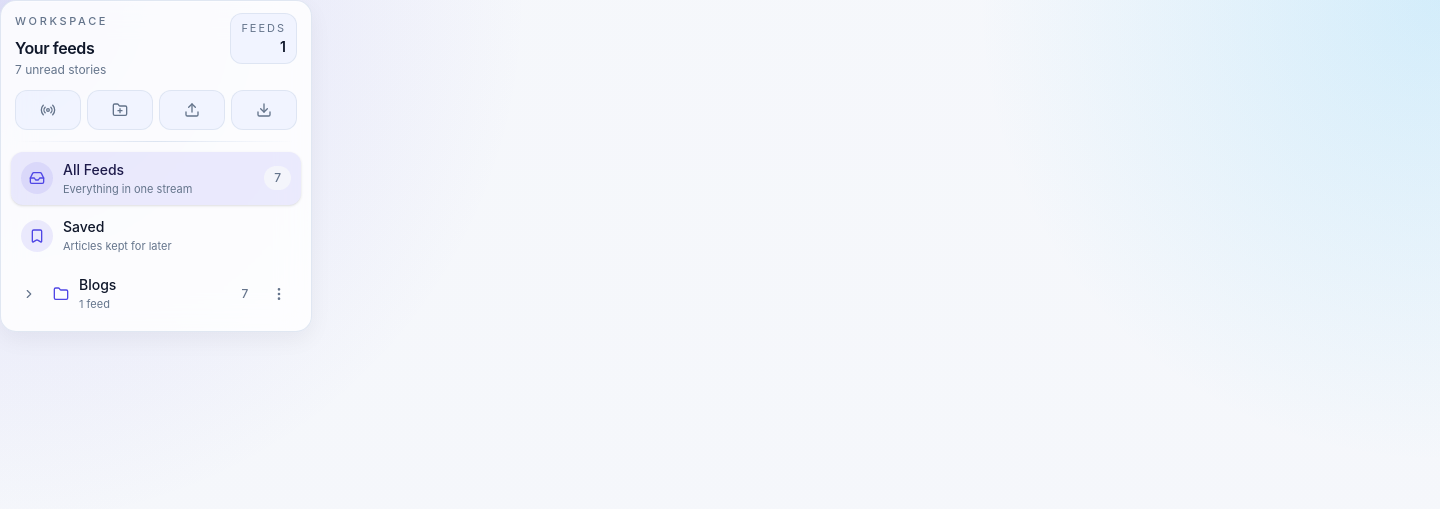
Test: Sidebar selection › toggles the chevron without selecting the category
Click the button named "Expand Blogs". click: point(29, 294)
box: [15, 280, 43, 308]
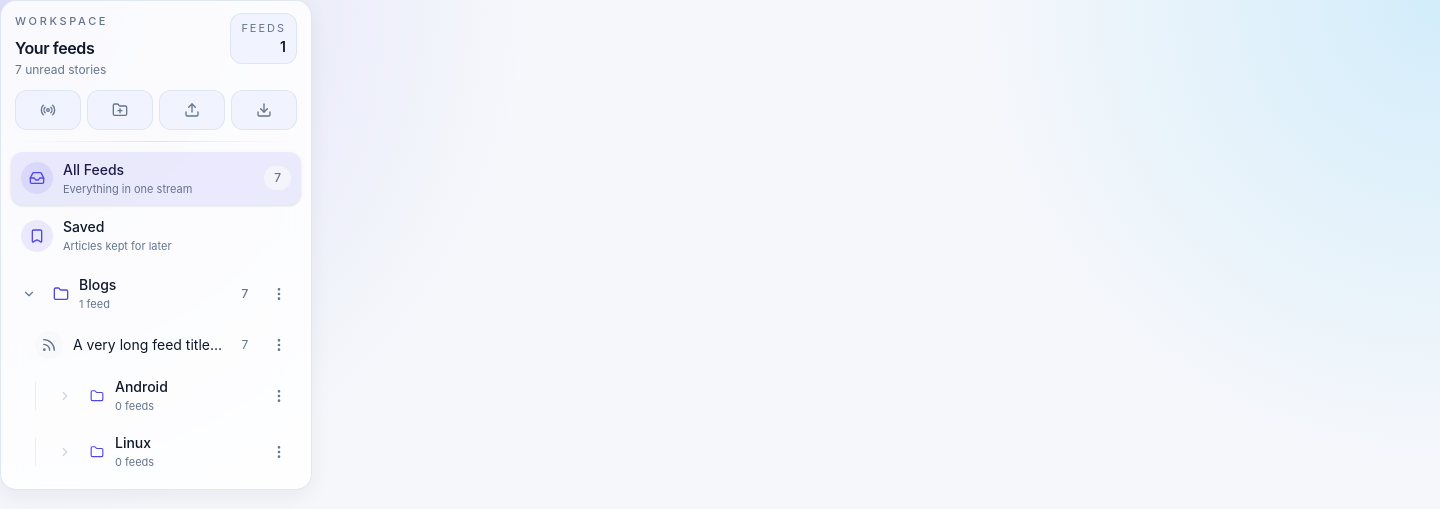
Expected: the button named "Collapse Blogs" is shown
Click the button named "Collapse Blogs". click: point(29, 294)
box: [15, 280, 43, 308]
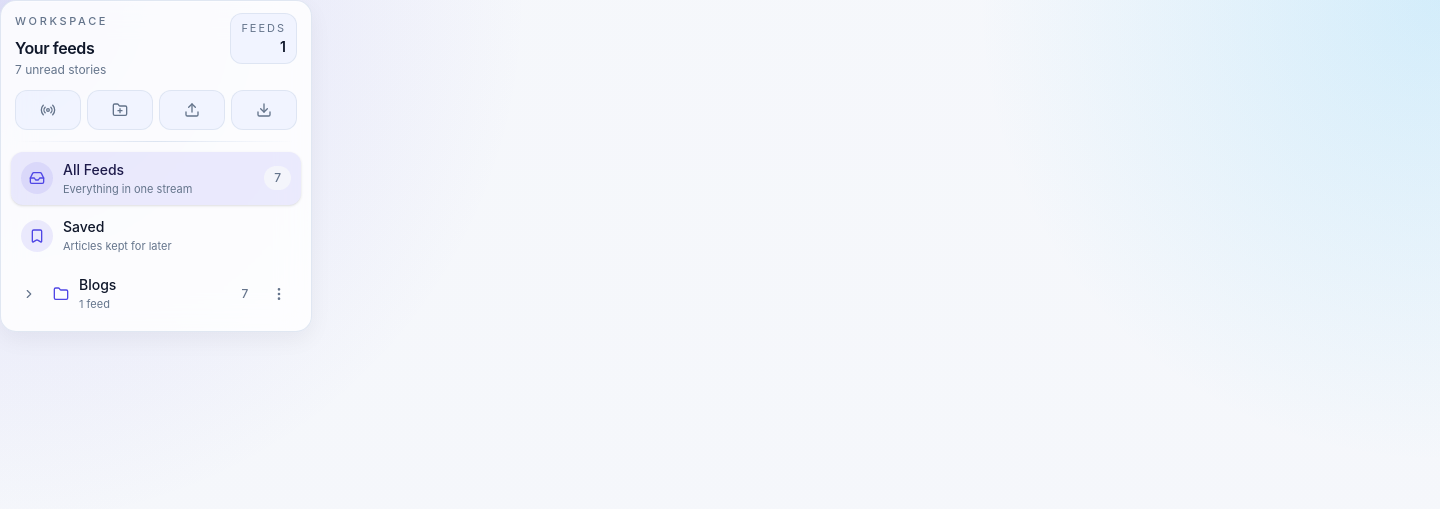
Expected: the button named "Expand Blogs" is shown, [15, 280, 43, 308]
Expected: the button "A very long feed title that should stay clipped correctly" is gone
